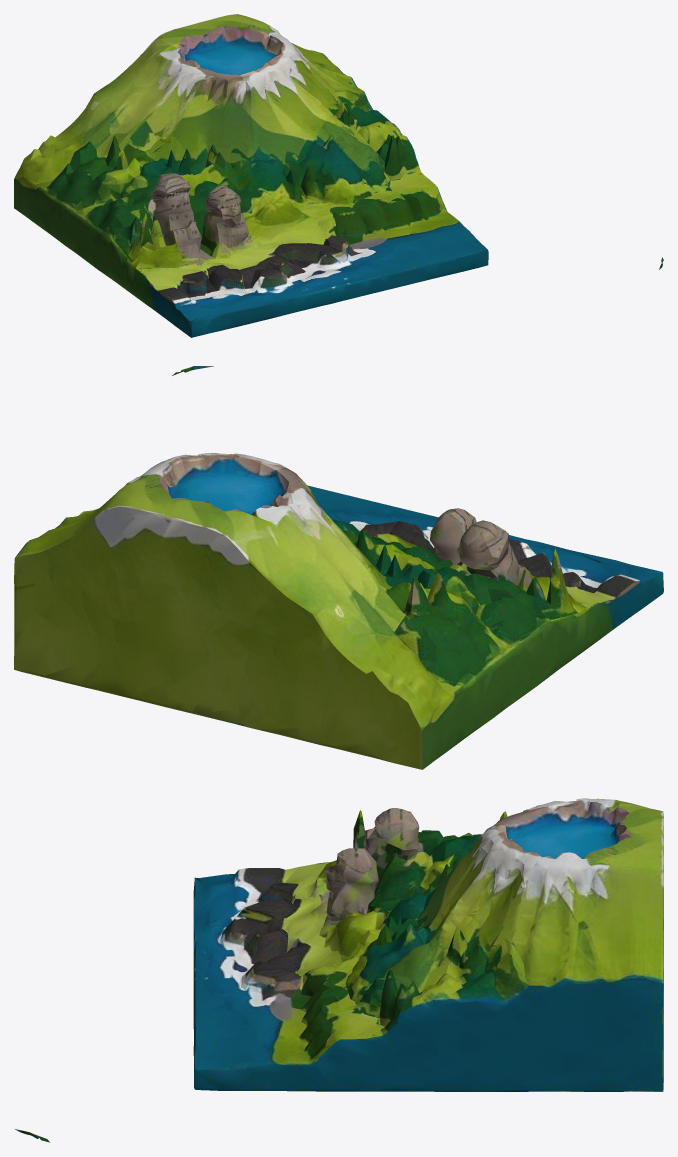
File: hallasan.glb
3 views of the same model, one above another, from view 1: azimuth 30°, elevation 25°; view 2: azimuth 150°, elevation 25°; view 3: azimuth 270°, elevation 25° (orthographic). The views are drawn at different scales.
Visible parts, largest first — view 1: logan-textured.obj; view 2: logan-textured.obj; view 3: logan-textured.obj.
Boxes of the visible parts, bbox=[...] form: logan-textured.obj: bbox=[14, 14, 663, 337]; logan-textured.obj: bbox=[14, 366, 663, 769]; logan-textured.obj: bbox=[15, 798, 663, 1142].
Bounding box in the file's own units: 0.9784 × 0.3231 × 1.
1 material, 1 textured.
